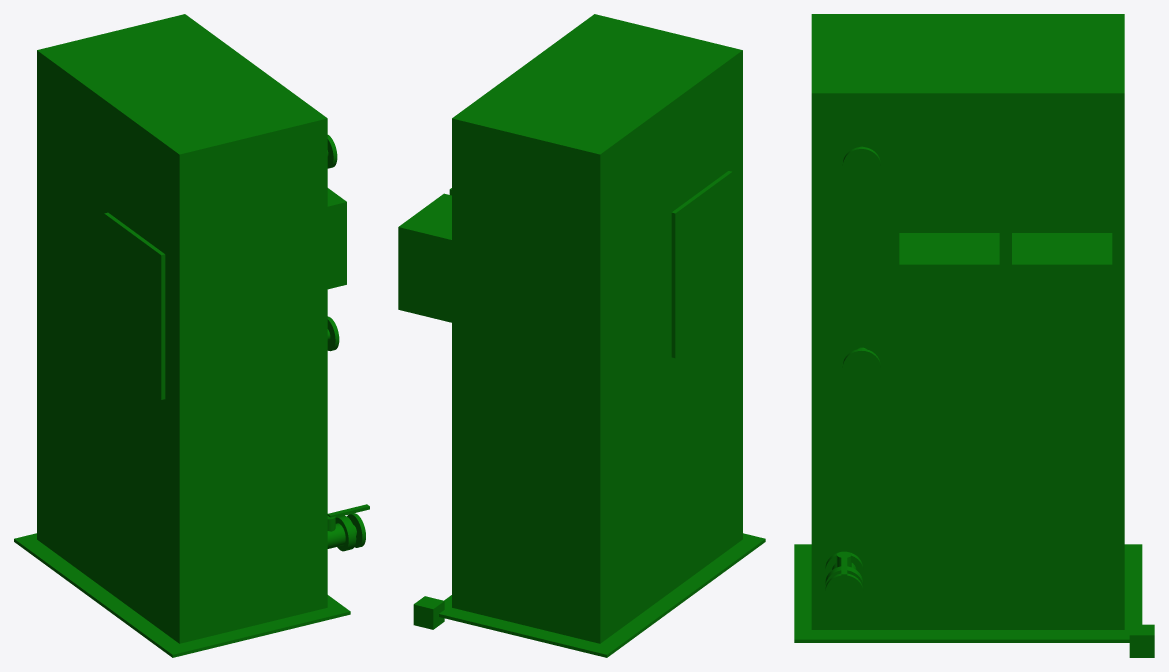
Rendered from Image-1710907701838-2280939263952_64-XX51.fbx.
3 views of the same model, side by side, from view 1: azimuth 30°, elevation 25°; view 2: azimuth 150°, elevation 25°; view 3: azimuth 270°, elevation 25° (orthographic). The views are drawn at different scales.
Visible parts, largest first — view 1: BOX 3 of SUBEQUIPMENT /64-XX51/PRIM, BOX 4 of SUBEQUIPMENT /64-XX51/PRIM, BOX 5 of SUBEQUIPMENT /64-XX51/PRIM, BOX 2 of SUBEQUIPMENT /64-XX51/PRIM; view 2: BOX 3 of SUBEQUIPMENT /64-XX51/PRIM, BOX 4 of SUBEQUIPMENT /64-XX51/PRIM, BOX 1 of SUBEQUIPMENT /64-XX51/PRIM, BOX 5 of SUBEQUIPMENT /64-XX51/PRIM, BOX 1 of SUBEQUIPMENT /64-2985GI; view 3: BOX 3 of SUBEQUIPMENT /64-XX51/PRIM, BOX 2 of SUBEQUIPMENT /64-XX51/PRIM, BOX 1 of SUBEQUIPMENT /64-XX51/PRIM, BOX 5 of SUBEQUIPMENT /64-XX51/PRIM, /64-XX51/TP2, /64-XX51/TP3, /64-XX51/TP1, BOX 1 of SUBEQUIPMENT /64-2985GI.
Part boxes in pixels (<box>): BOX 3 of SUBEQUIPMENT /64-XX51/PRIM: <box>37,14,327,643</box>; BOX 4 of SUBEQUIPMENT /64-XX51/PRIM: <box>104,212,165,399</box>; BOX 5 of SUBEQUIPMENT /64-XX51/PRIM: <box>14,533,350,657</box>; BOX 2 of SUBEQUIPMENT /64-XX51/PRIM: <box>327,188,346,289</box>; BOX 3 of SUBEQUIPMENT /64-XX51/PRIM: <box>452,14,742,643</box>; BOX 4 of SUBEQUIPMENT /64-XX51/PRIM: <box>671,171,732,358</box>; BOX 1 of SUBEQUIPMENT /64-XX51/PRIM: <box>398,193,451,322</box>; BOX 5 of SUBEQUIPMENT /64-XX51/PRIM: <box>439,533,765,657</box>; BOX 1 of SUBEQUIPMENT /64-2985GI: <box>413,596,444,629</box>; BOX 3 of SUBEQUIPMENT /64-XX51/PRIM: <box>811,14,1124,629</box>; BOX 2 of SUBEQUIPMENT /64-XX51/PRIM: <box>899,233,999,355</box>; BOX 1 of SUBEQUIPMENT /64-XX51/PRIM: <box>1012,233,1112,355</box>; BOX 5 of SUBEQUIPMENT /64-XX51/PRIM: <box>794,544,1142,642</box>; /64-XX51/TP2: <box>842,347,880,385</box>; /64-XX51/TP3: <box>842,146,880,183</box>; /64-XX51/TP1: <box>825,573,863,609</box>; BOX 1 of SUBEQUIPMENT /64-2985GI: <box>1129,624,1154,657</box>.
Size of the model in its own units: 1.12 by 1.44 by 2.43.
